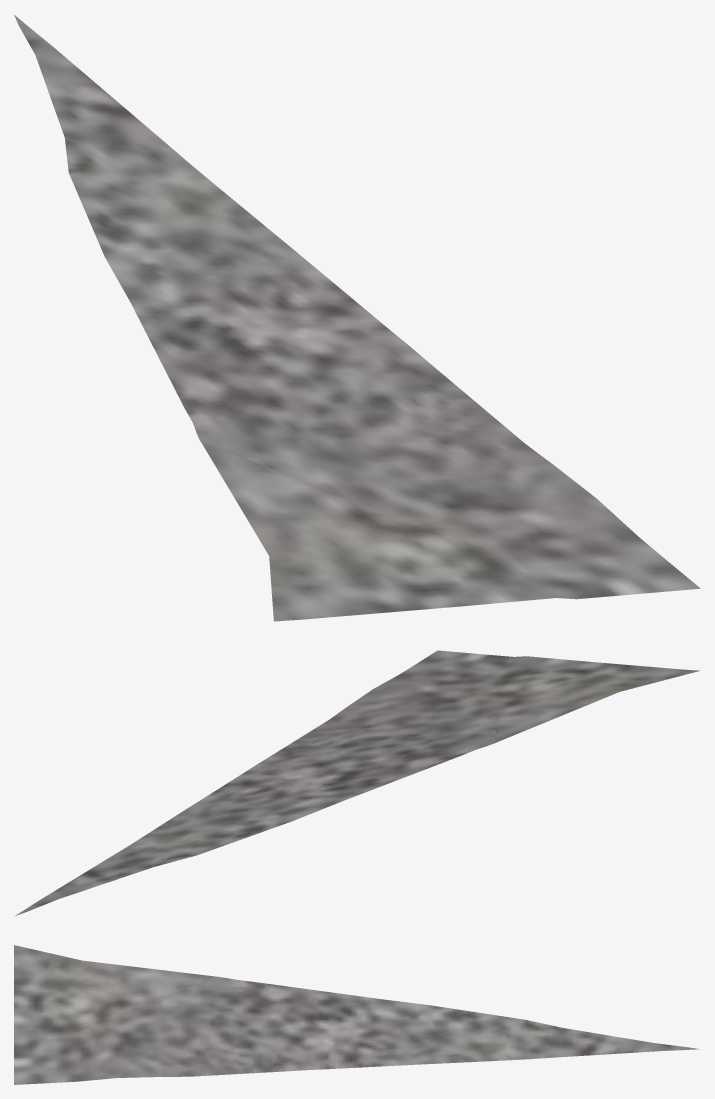
3 renders of one model, top to bottom at view 1: azimuth 30°, elevation 25°; view 2: azimuth 150°, elevation 25°; view 3: azimuth 270°, elevation 25°, orthographic. The views are drawn at different scales.
Size of the model in its own units: 0.1635 by 0.0261 by 0.4556.
1 material, 1 textured.
